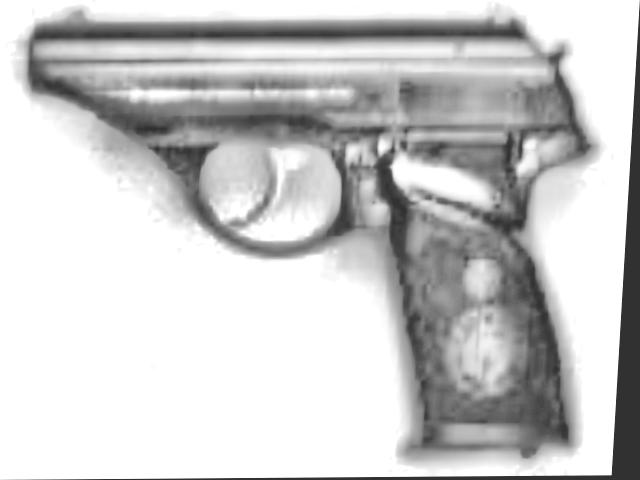pistol: (2, 0, 604, 468)
